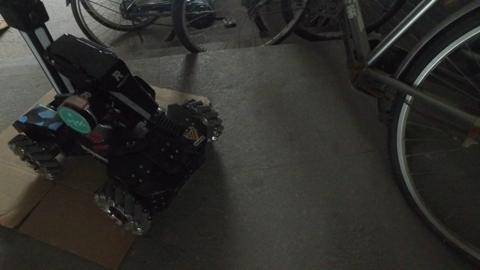chariot: (1, 2, 225, 234)
